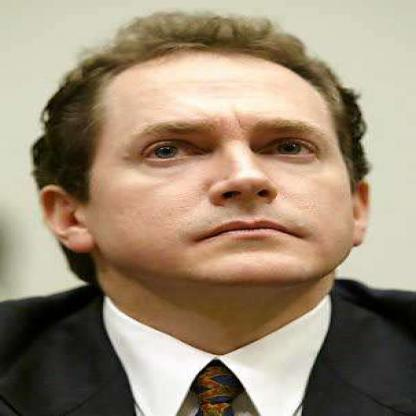face: (68, 31, 382, 304)
